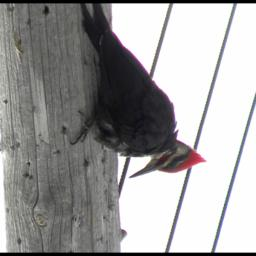Woodpecker: (68, 4, 210, 182)
